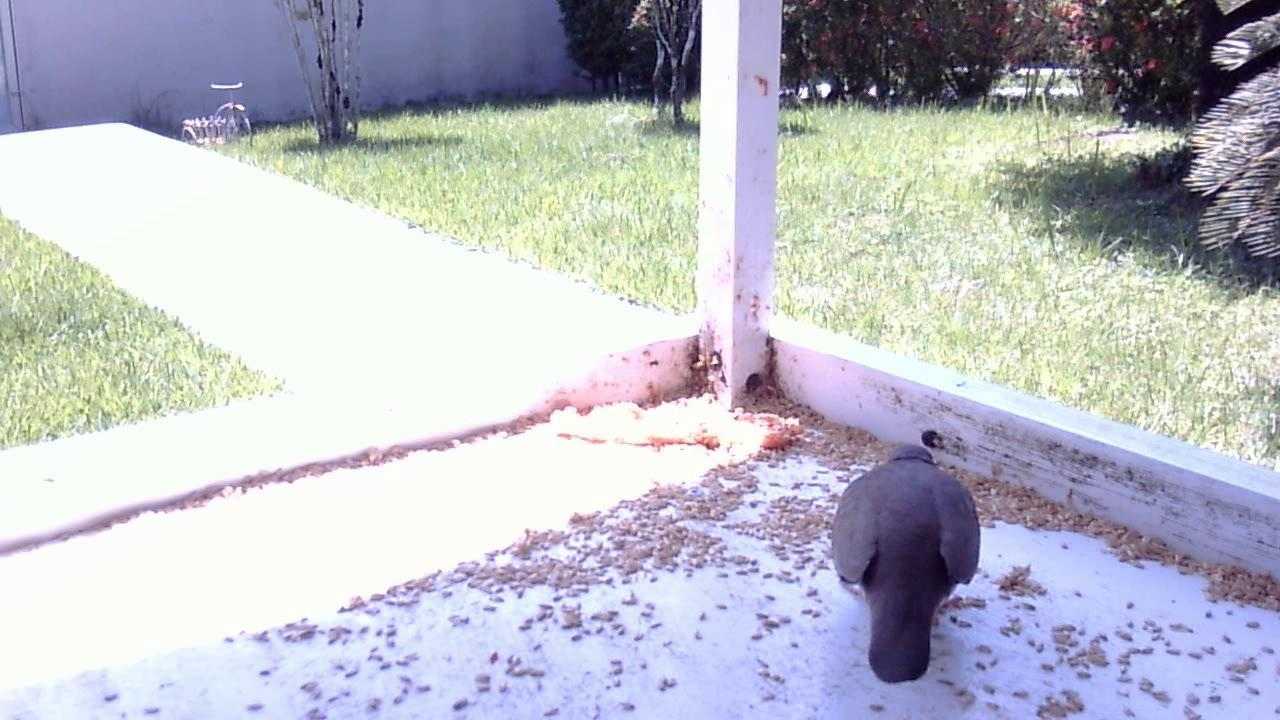rolinha: (824, 426, 985, 685)
